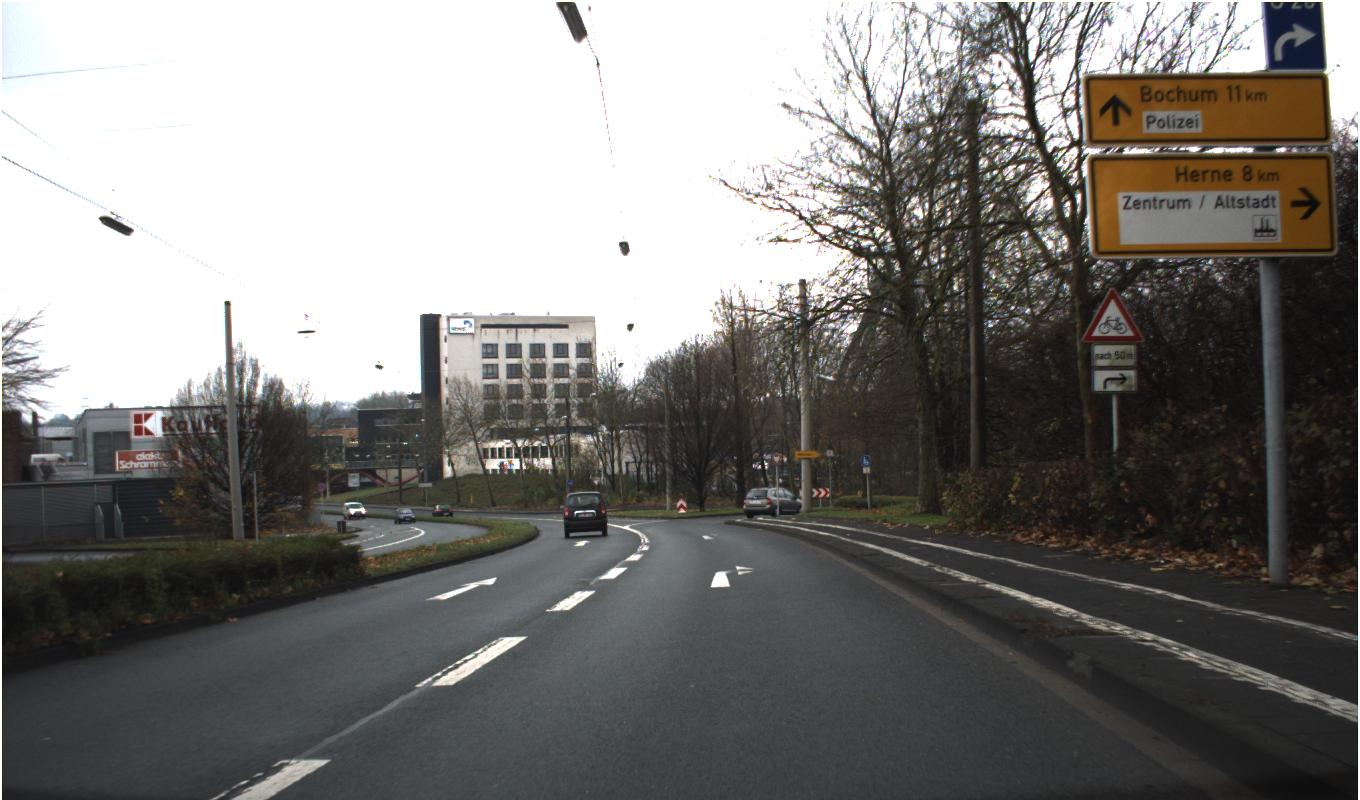danger: (1080, 286, 1145, 343)
